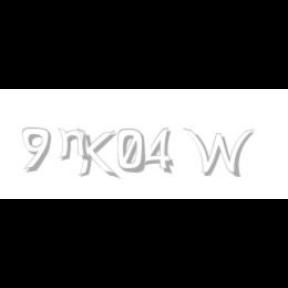0: (118, 128, 148, 174)
4: (143, 128, 174, 174)
9: (22, 128, 51, 172)
K: (76, 128, 116, 180)
W: (182, 128, 254, 178)
n: (57, 128, 91, 162)
